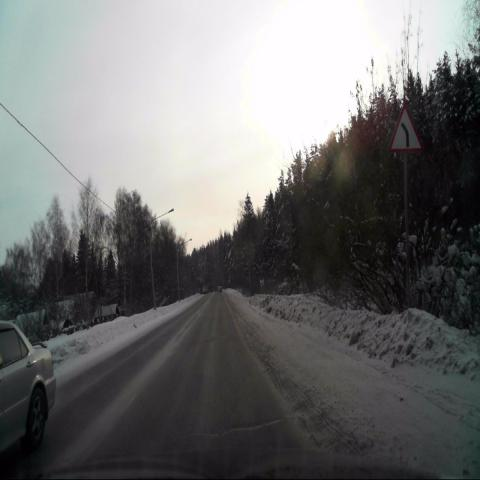1_11_1: (390, 105, 422, 151)
